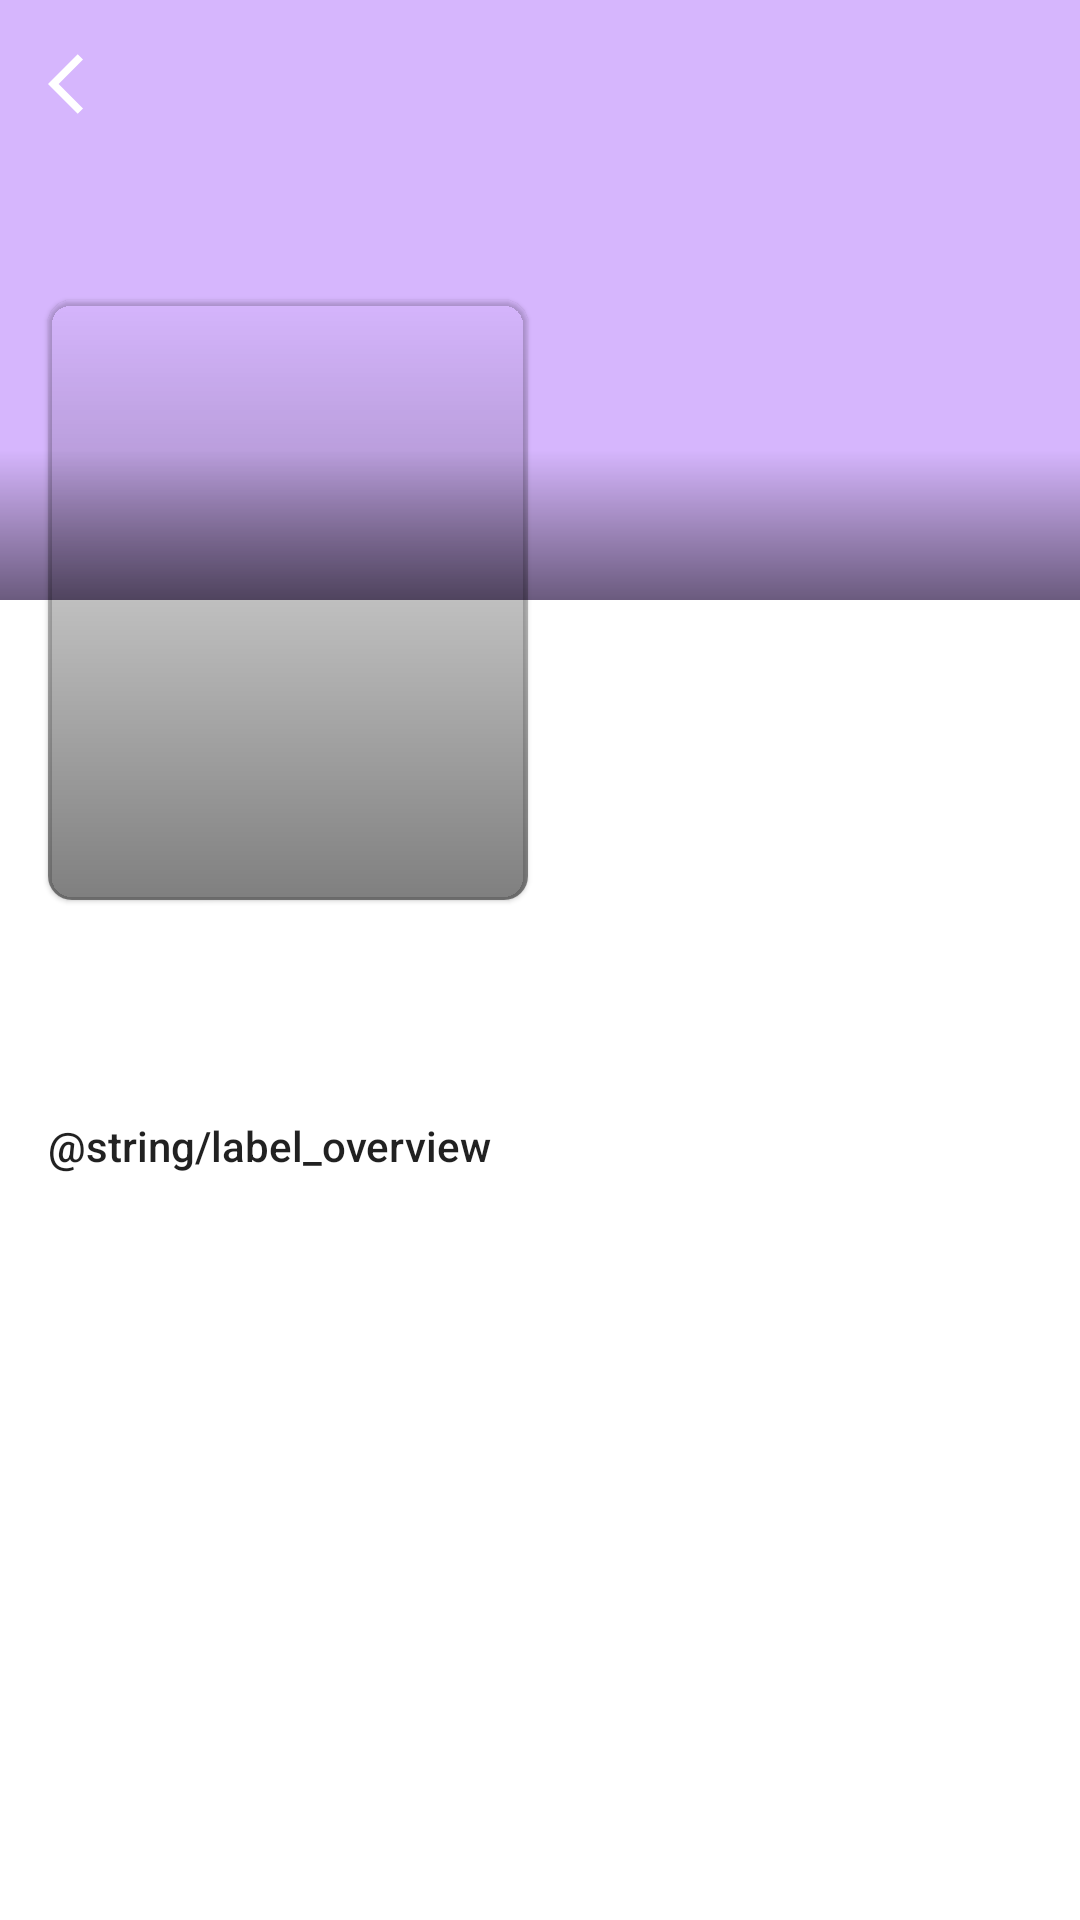

Icons on this 1080px×1920px Android screen, each with the point to tap as (x=x, y=y):
arrow back: (x=65, y=84)
